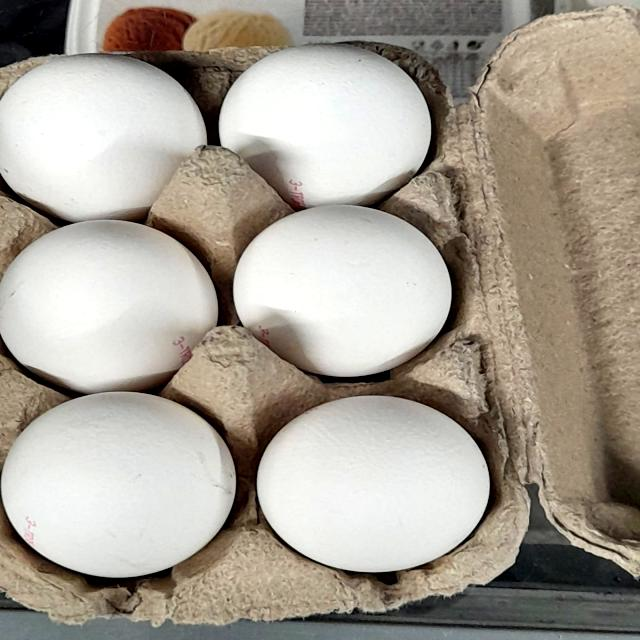egg: (0, 376, 252, 588), (269, 387, 511, 578), (222, 191, 462, 376), (0, 214, 233, 402), (204, 29, 447, 199), (0, 41, 215, 225)
